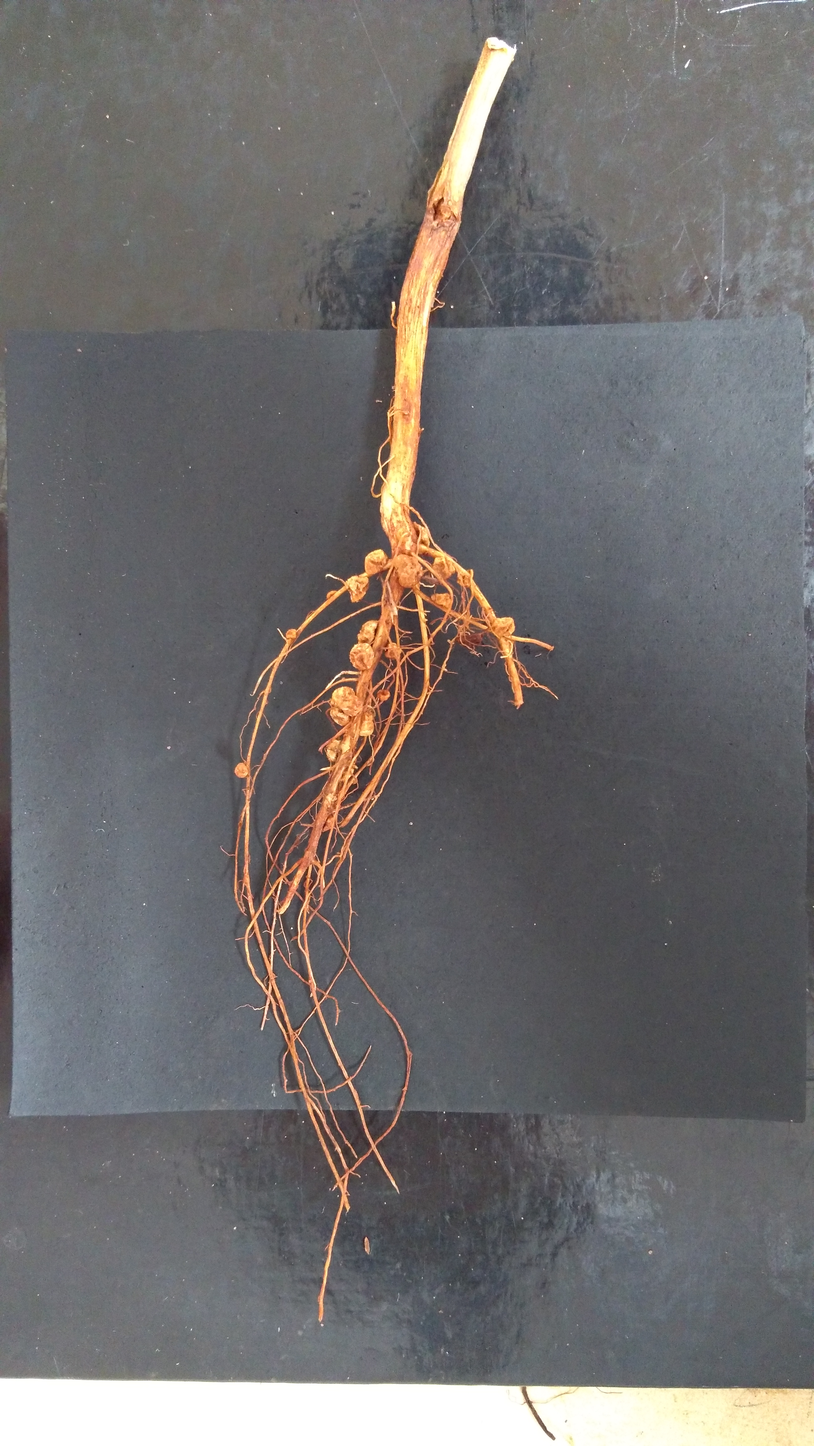nodule: (330, 686, 363, 717), (393, 554, 423, 588), (345, 575, 369, 603), (350, 643, 374, 671), (364, 549, 388, 575), (351, 709, 374, 736), (413, 522, 429, 555), (357, 619, 377, 644), (491, 617, 515, 637), (330, 708, 350, 726), (326, 739, 340, 761), (340, 759, 354, 781), (431, 593, 451, 608), (384, 642, 400, 660), (396, 526, 411, 542), (457, 571, 471, 588), (322, 814, 335, 832), (234, 763, 248, 778), (341, 735, 351, 755), (383, 605, 392, 624), (376, 689, 390, 701), (326, 590, 337, 599), (286, 629, 296, 638), (352, 778, 358, 784), (266, 700, 268, 705), (254, 707, 256, 710)
